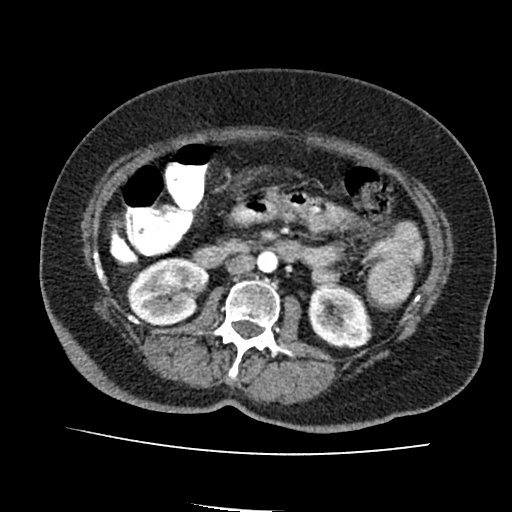aorta: (254, 249, 279, 273)
